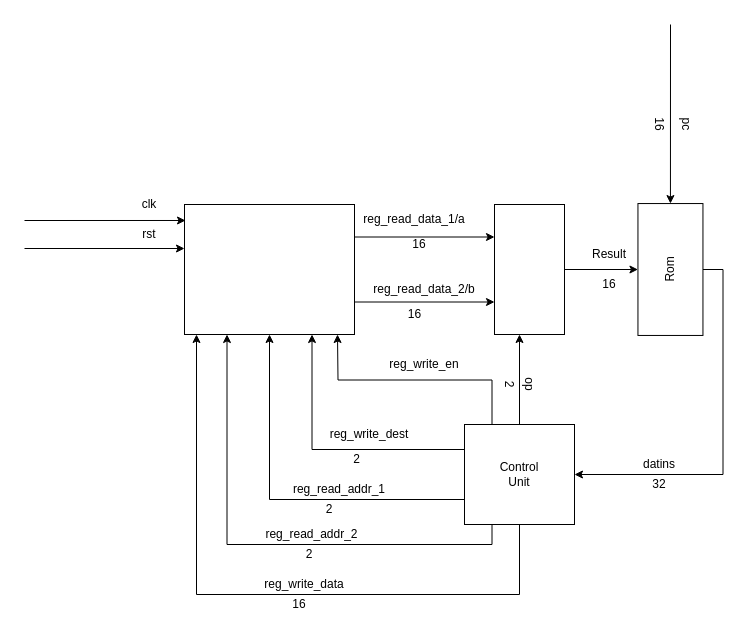
This 749x632 diagram has some shape labels left out. Each missing label, with the centre of its shape:
Alu: the point at 529,269
Register bank: the point at 269,269
